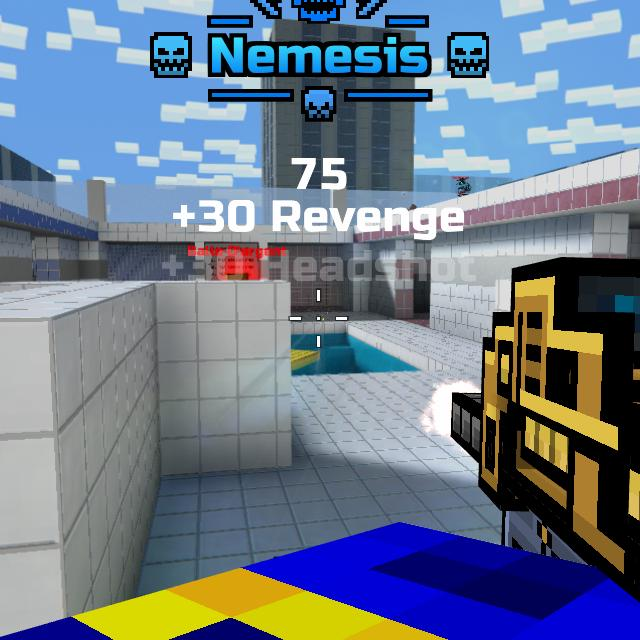Enemy: (225, 270, 257, 282)
